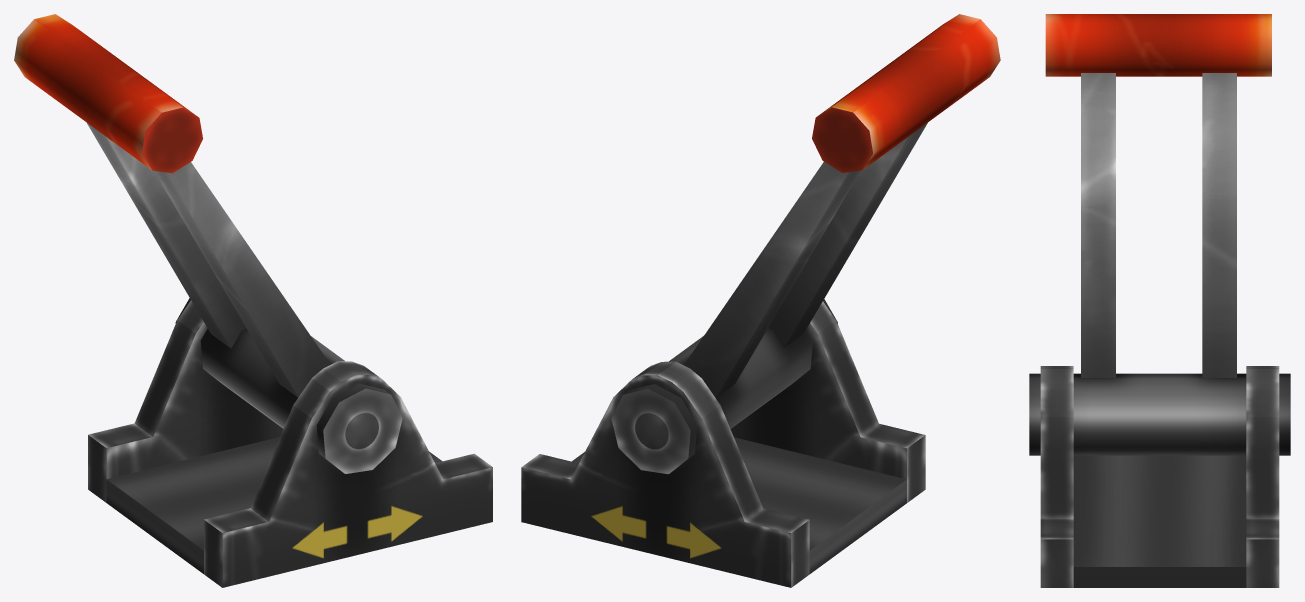
The model's file is lever.FBX.
The picture shows the model from 3 angles, left to right: view 1: azimuth 30°, elevation 25°; view 2: azimuth 150°, elevation 25°; view 3: azimuth 270°, elevation 25°; orthographic projection. The views are drawn at different scales.
Parts seen in each view (by area): view 1: Line004, Object001; view 2: Line004, Object001; view 3: Object001, Line004.
Boxes of the visible parts, x1=… form: Line004: x1=88, y1=300, x2=492, y2=587; Object001: x1=14, y1=14, x2=402, y2=473; Line004: x1=521, y1=301, x2=925, y2=587; Object001: x1=611, y1=14, x2=1000, y2=474; Object001: x1=1029, y1=14, x2=1290, y2=455; Line004: x1=1040, y1=366, x2=1279, y2=587.
Size of the model in its own units: 43.13 by 57.66 by 31.63.
Materials: 1 (1 with a texture image).
